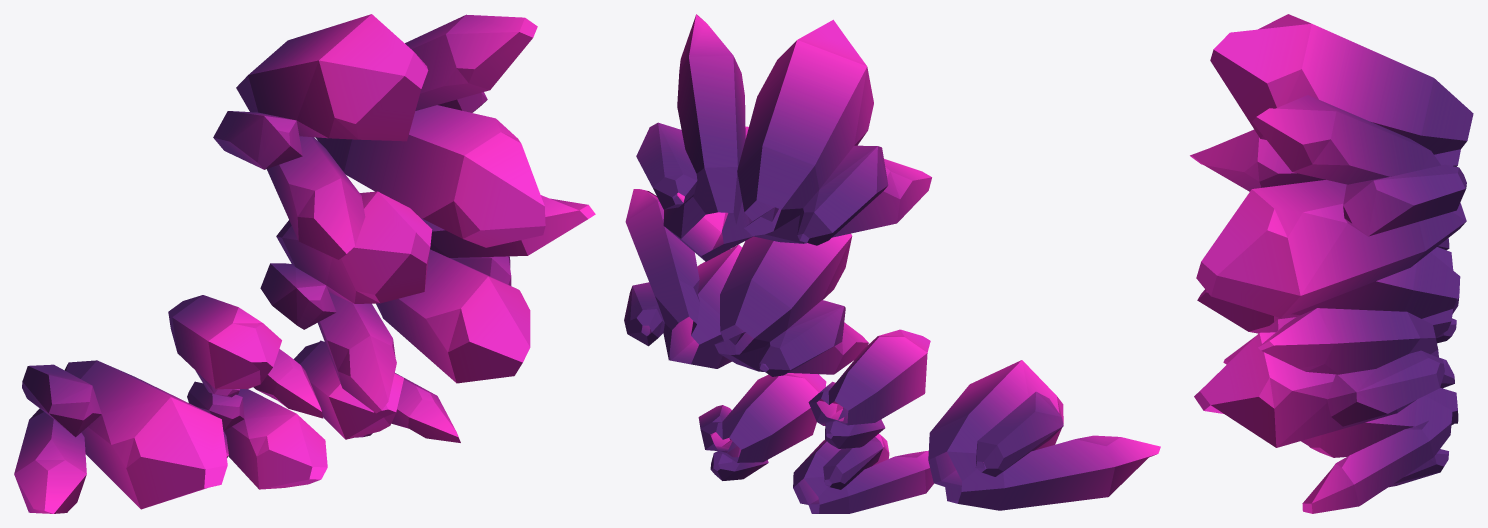
The model's file is Bunch_of_crystals_02.fbx.
3 views of the same model, side by side, from view 1: azimuth 30°, elevation 25°; view 2: azimuth 150°, elevation 25°; view 3: azimuth 270°, elevation 25° (orthographic). The views are drawn at different scales.
Parts seen in each view (by area): view 1: Bunch_of_crystals_02; view 2: Bunch_of_crystals_02; view 3: Bunch_of_crystals_02.
Boxes of the visible parts, bbox=[...] form: Bunch_of_crystals_02: bbox=[14, 14, 595, 513]; Bunch_of_crystals_02: bbox=[624, 14, 1160, 513]; Bunch_of_crystals_02: bbox=[1190, 14, 1473, 513].
Bounding box in the file's own units: 107 × 83.6 × 46.56.
